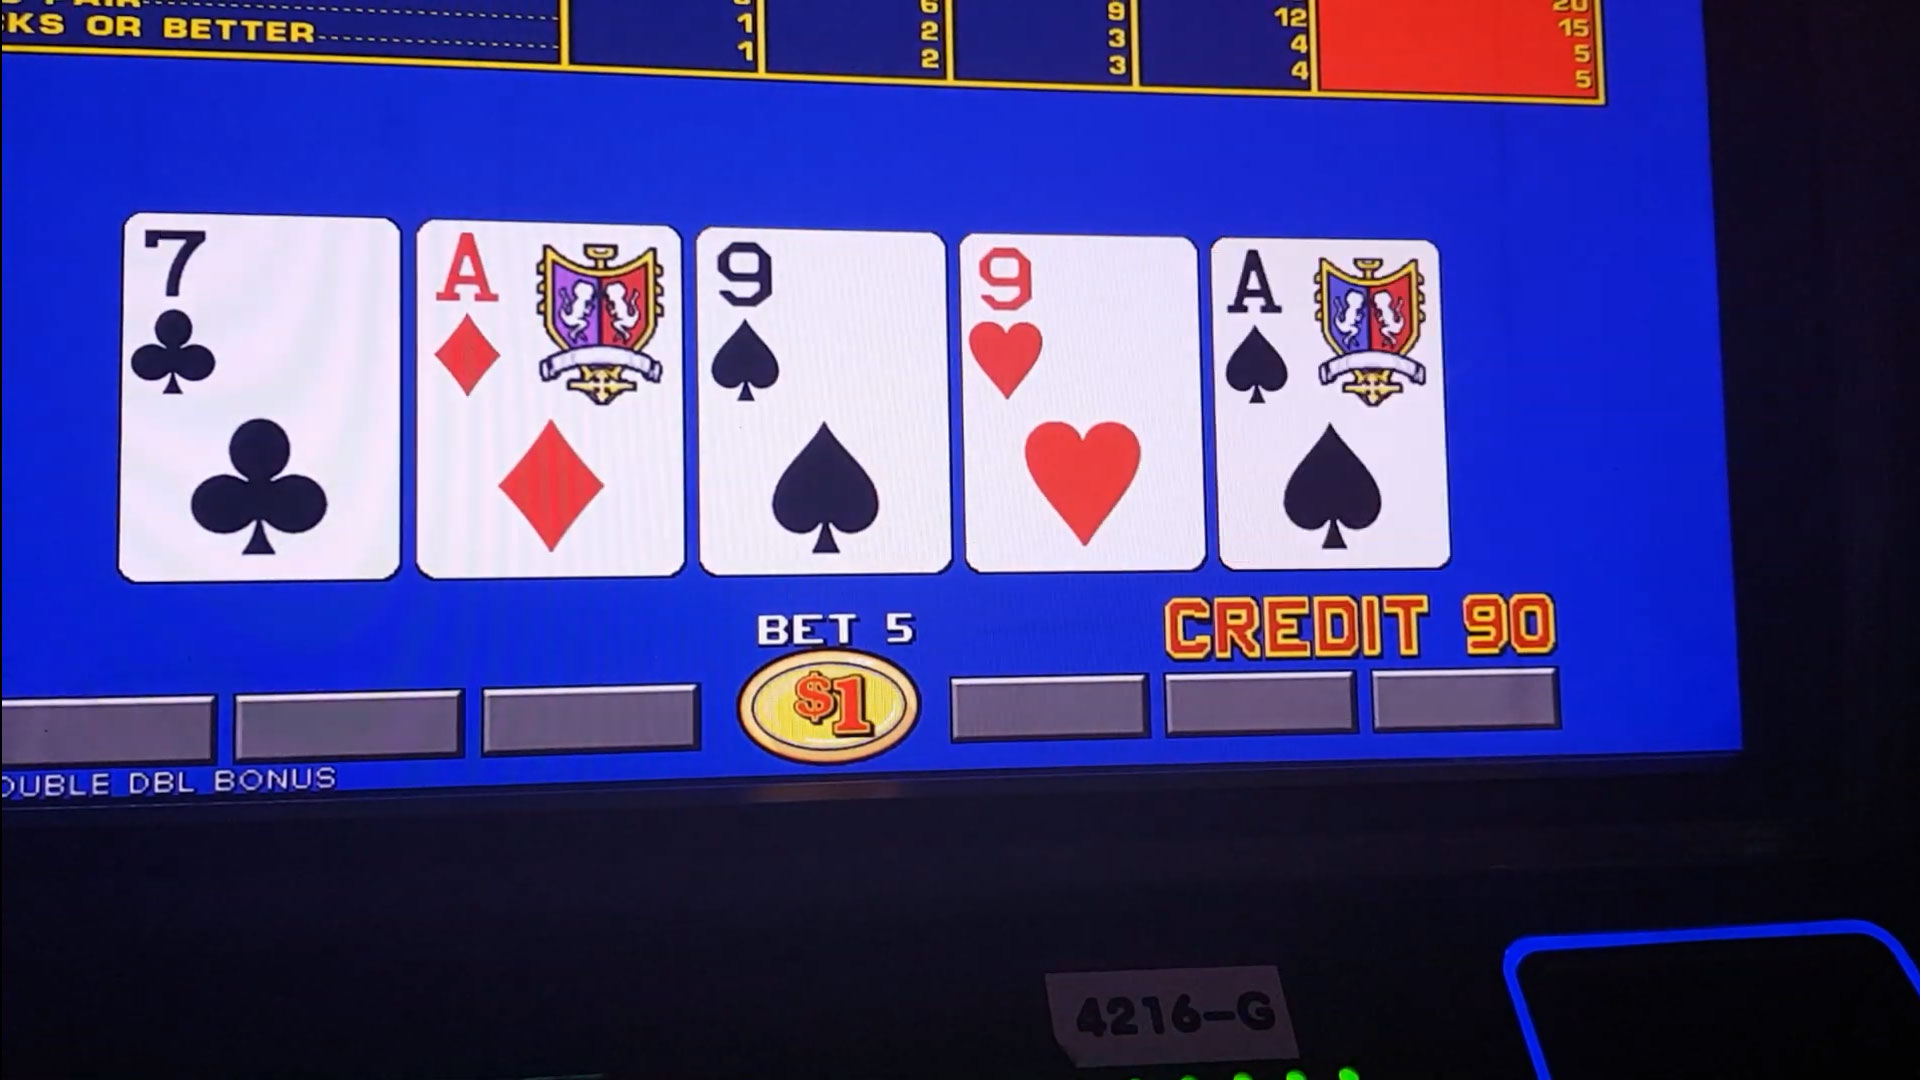C7: (133, 225, 396, 413)
DA: (423, 232, 678, 413)
H9: (969, 245, 1192, 415)
S9: (699, 236, 942, 417)
SA: (1218, 245, 1436, 415)
